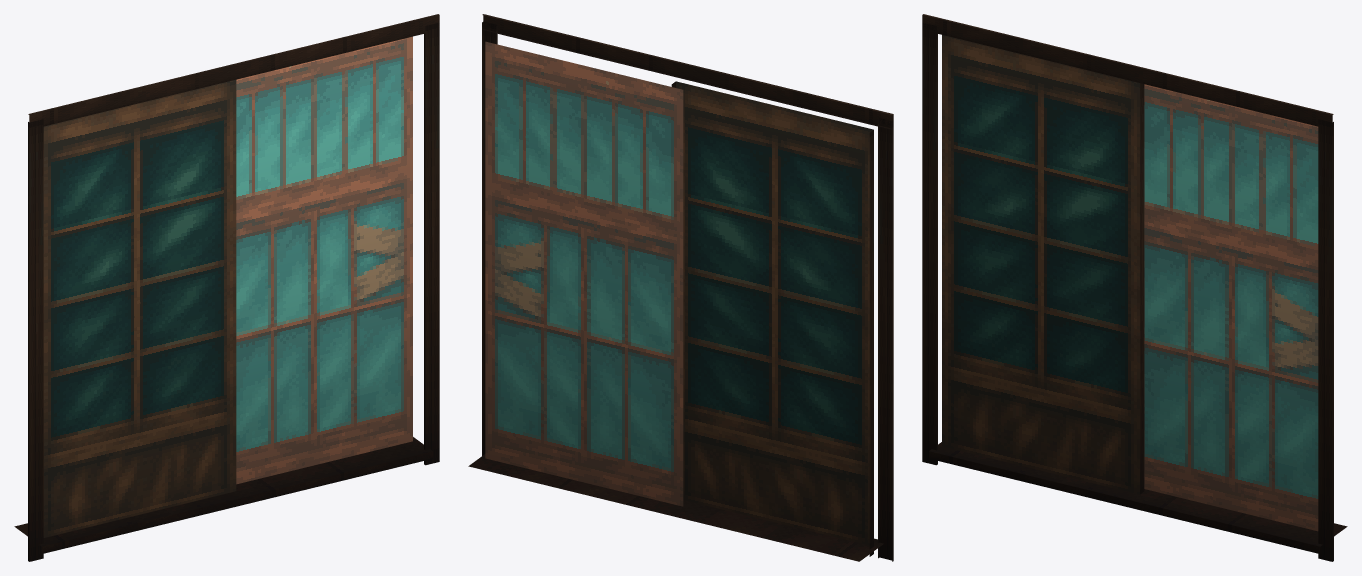
Rendered from prop_sash-16-17-3.glb.
3 views of the same model, side by side, from view 1: azimuth 30°, elevation 25°; view 2: azimuth 150°, elevation 25°; view 3: azimuth 330°, elevation 25° (orthographic).
Visible parts, largest first — view 1: prop_sash-16-17-3; view 2: prop_sash-16-17-3; view 3: prop_sash-16-17-3.
Part boxes in pixels (<box>): prop_sash-16-17-3: <box>14,14,439,561</box>; prop_sash-16-17-3: <box>468,14,893,561</box>; prop_sash-16-17-3: <box>922,14,1347,561</box>.
Bounding box in the file's own units: 1.72 × 1.79 × 0.2.
Materials: 3 (3 with a texture image).
